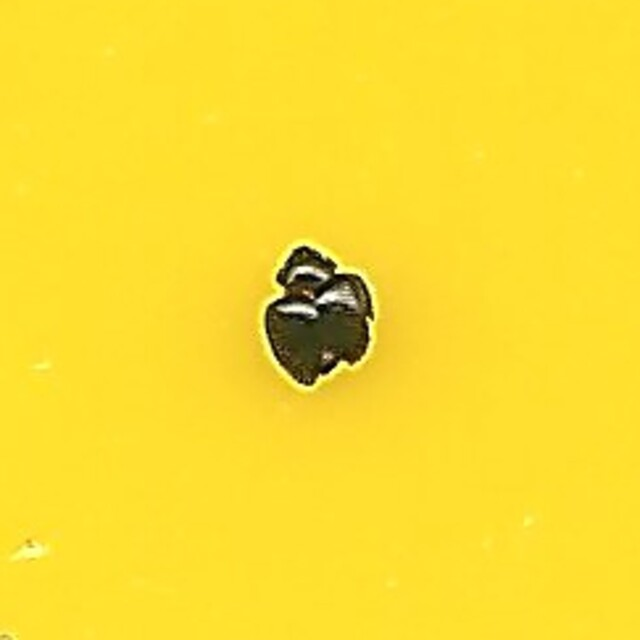Coleoptera: (263, 249, 377, 391)
